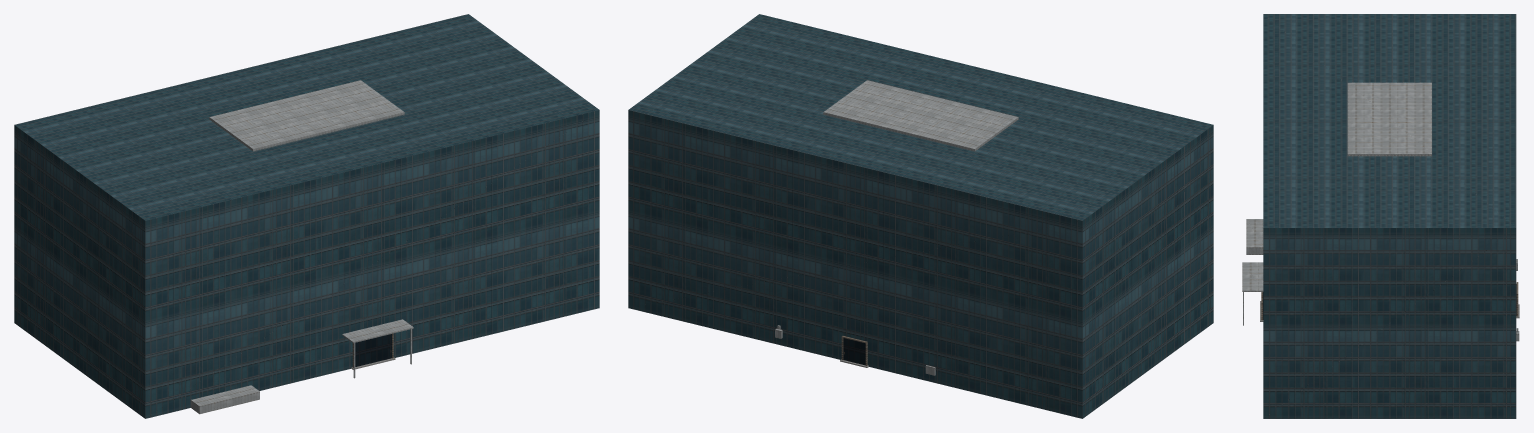
The model's file is tech-campus_lod0.gltf.
The picture shows the model from 3 angles, left to right: view 1: azimuth 30°, elevation 25°; view 2: azimuth 150°, elevation 25°; view 3: azimuth 270°, elevation 25°; orthographic projection. The views are drawn at different scales.
Visible parts, largest first — view 1: tech-campus_main, tech-campus__solar_array, tech-campus__bike_dock, tech-campus_fen_14-steel-panel_4, tech-campus_fen_07-glass-curtain-blue_1_t; view 2: tech-campus_main, tech-campus__solar_array; view 3: tech-campus_main, tech-campus__solar_array, tech-campus_fen_14-steel-panel_4, tech-campus__bike_dock.
Boxes of the visible parts, x1=… form: tech-campus_main: x1=14, y1=14, x2=599, y2=418; tech-campus__solar_array: x1=209, y1=80, x2=404, y2=151; tech-campus__bike_dock: x1=191, y1=385, x2=259, y2=414; tech-campus_fen_14-steel-panel_4: x1=342, y1=319, x2=413, y2=378; tech-campus_fen_07-glass-curtain-blue_1_t: x1=355, y1=334, x2=391, y2=366; tech-campus_main: x1=628, y1=14, x2=1213, y2=418; tech-campus__solar_array: x1=823, y1=80, x2=1018, y2=151; tech-campus_main: x1=1263, y1=14, x2=1516, y2=418; tech-campus__solar_array: x1=1347, y1=82, x2=1431, y2=156; tech-campus_fen_14-steel-panel_4: x1=1242, y1=259, x2=1519, y2=341; tech-campus__bike_dock: x1=1246, y1=219, x2=1263, y2=254.
Size of the model in its own units: 60 by 25.37 by 32.9.
